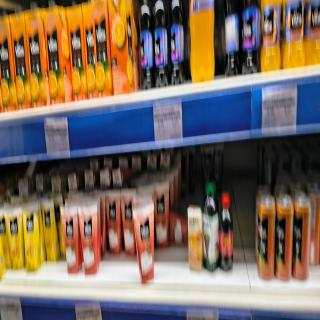Juice: (41, 7, 72, 108), (7, 9, 30, 112), (91, 0, 111, 97), (40, 198, 59, 266), (22, 207, 39, 272)
